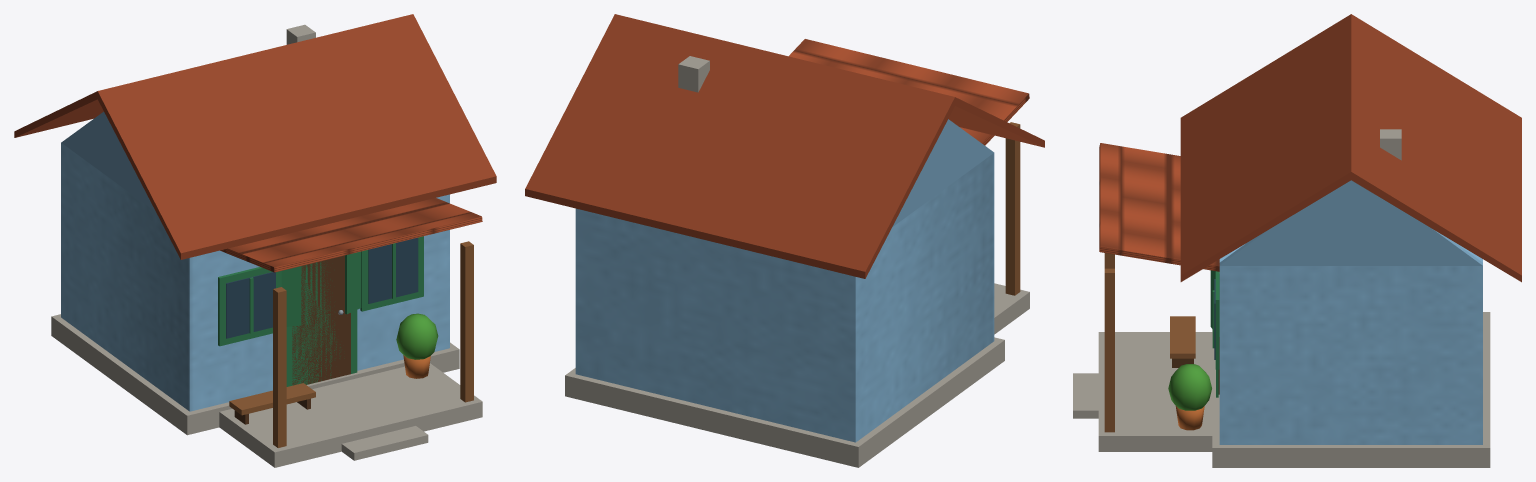
The model's file is prop_rumah_biru.glb.
3 views of the same model, side by side, from view 1: azimuth 30°, elevation 25°; view 2: azimuth 150°, elevation 25°; view 3: azimuth 270°, elevation 25° (orthographic). The views are drawn at different scales.
Parts seen in each view (by area): view 1: rumah_biru; view 2: rumah_biru; view 3: rumah_biru.
Part boxes in pixels (box(x1,y1,x2,y2)): rumah_biru: box(14, 14, 496, 467); rumah_biru: box(525, 14, 1044, 467); rumah_biru: box(1073, 14, 1521, 467).
Size of the model in its own units: 5.1 by 4.63 by 6.13.
Materials: 10 (2 with a texture image).
